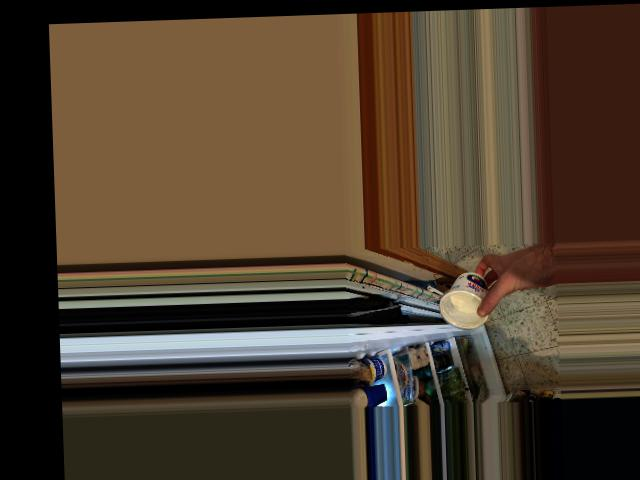cotage: (436, 265, 497, 329)
